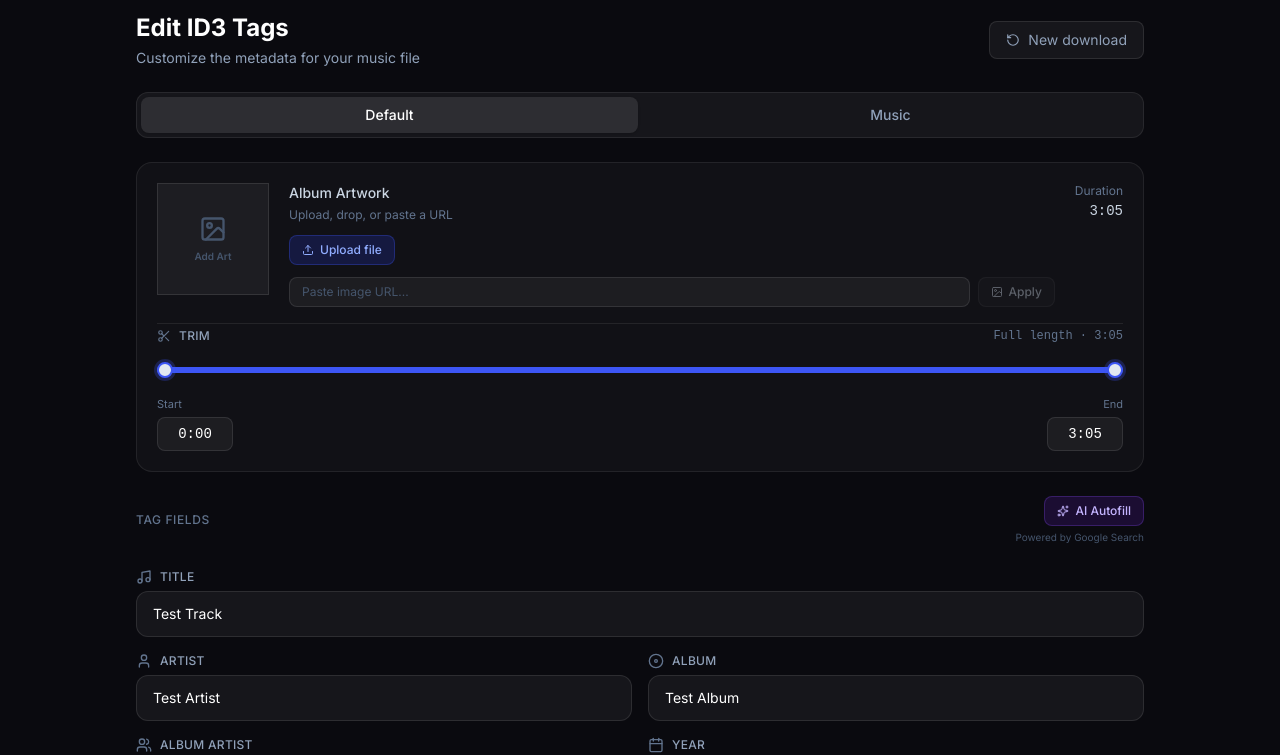
TagEditor album art URL input › shows an error message when the fetch fails
Type "https://bad.example.com/img.jpg" into the field with placeholder "Paste image URL..." at {"x": 629, "y": 292}, box [289,277,970,307]
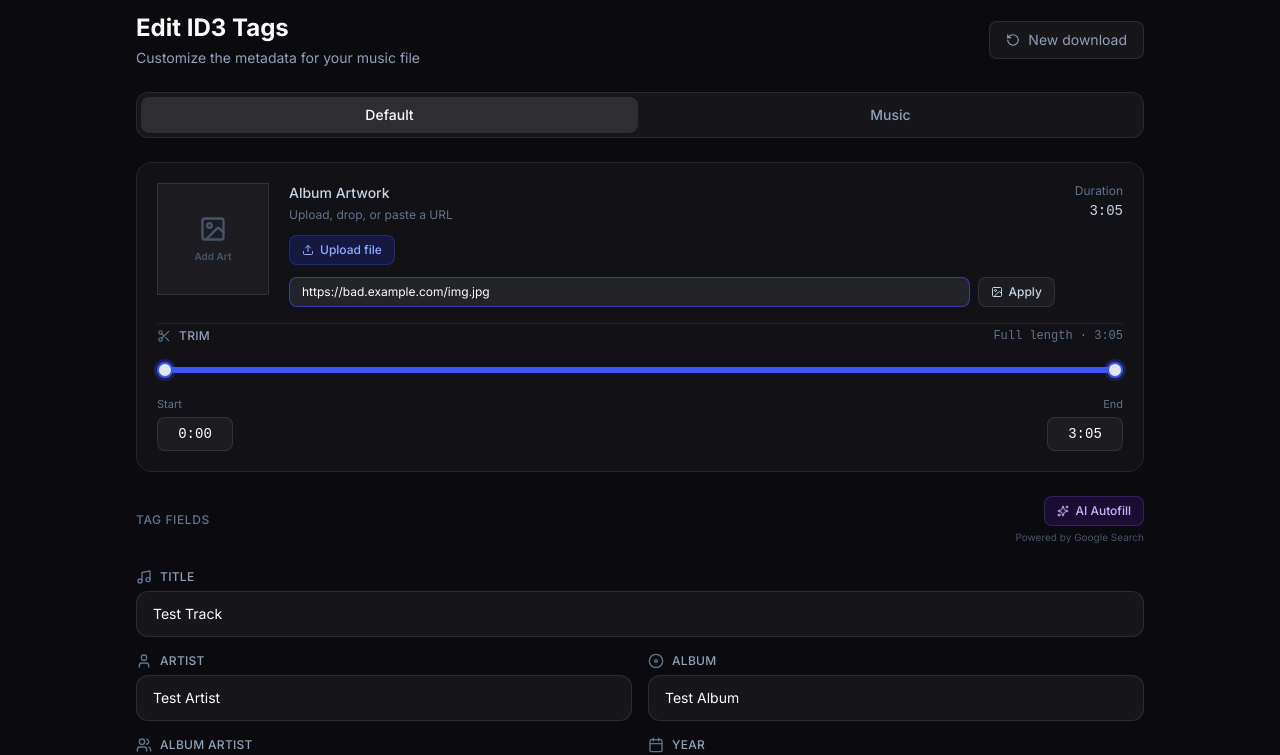
Click the button "Apply" at {"x": 1016, "y": 292}, box [978,277,1055,307]
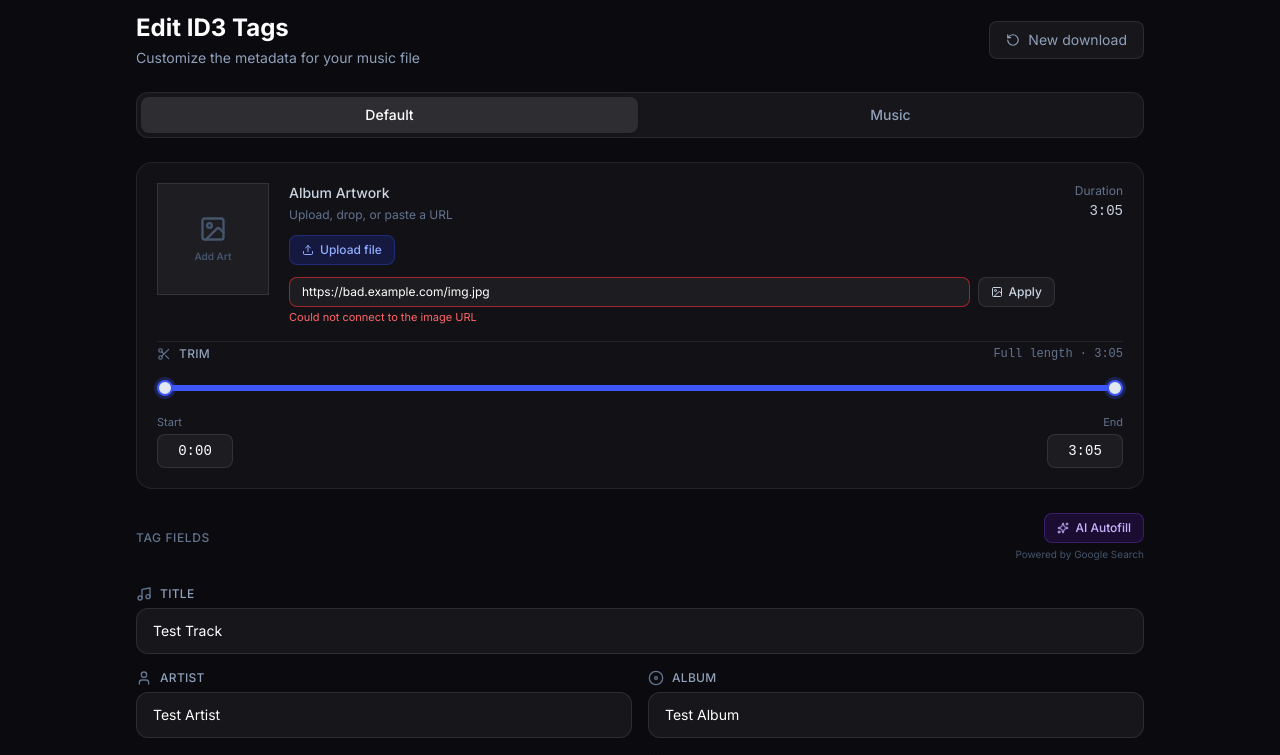
Expected: the text "Could not connect to the image URL" is shown, [289,310,477,324]
